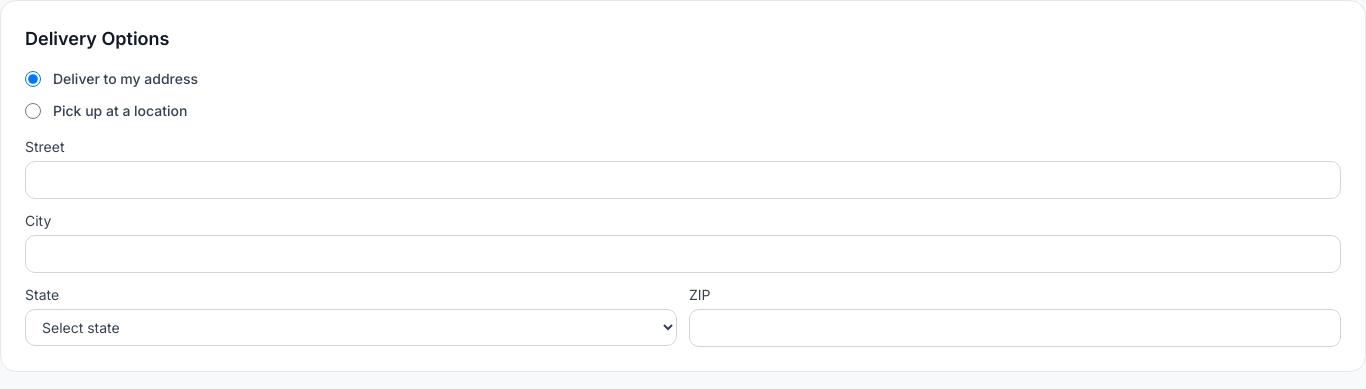
Scenario: DeliverySection › switches to pickup dropdown when pickup selected
The image size is (1366, 389).
Step 1. Click the radio button labelled "Pick up at a location" → point(33, 111), box x1=25 y1=103 x2=41 y2=119
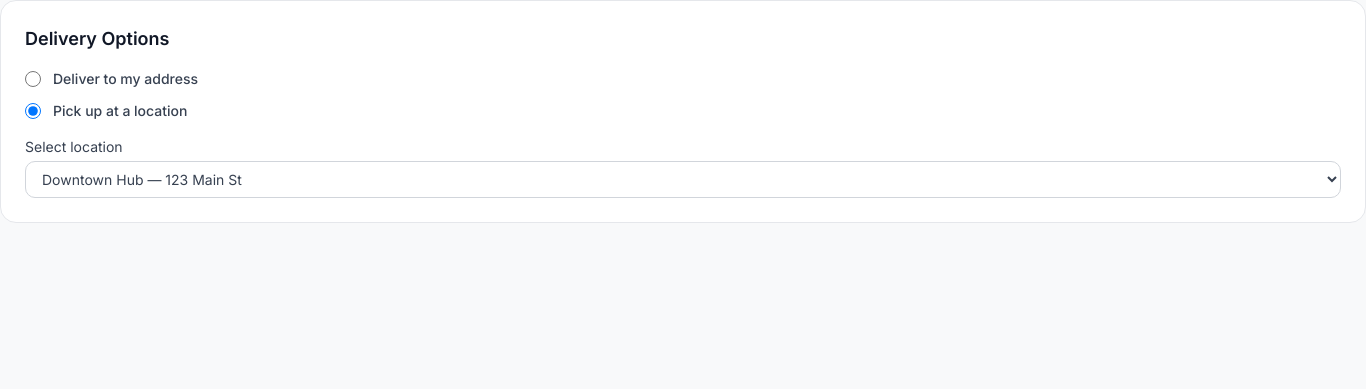
Expected: the radio button labelled "Pick up at a location" is checked, x1=25 y1=103 x2=41 y2=119
Expected: the element with test id "pickup-form" is shown, x1=25 y1=137 x2=1341 y2=198
Expected: the dropdown labelled "Select location" is shown, x1=25 y1=161 x2=1341 y2=198
